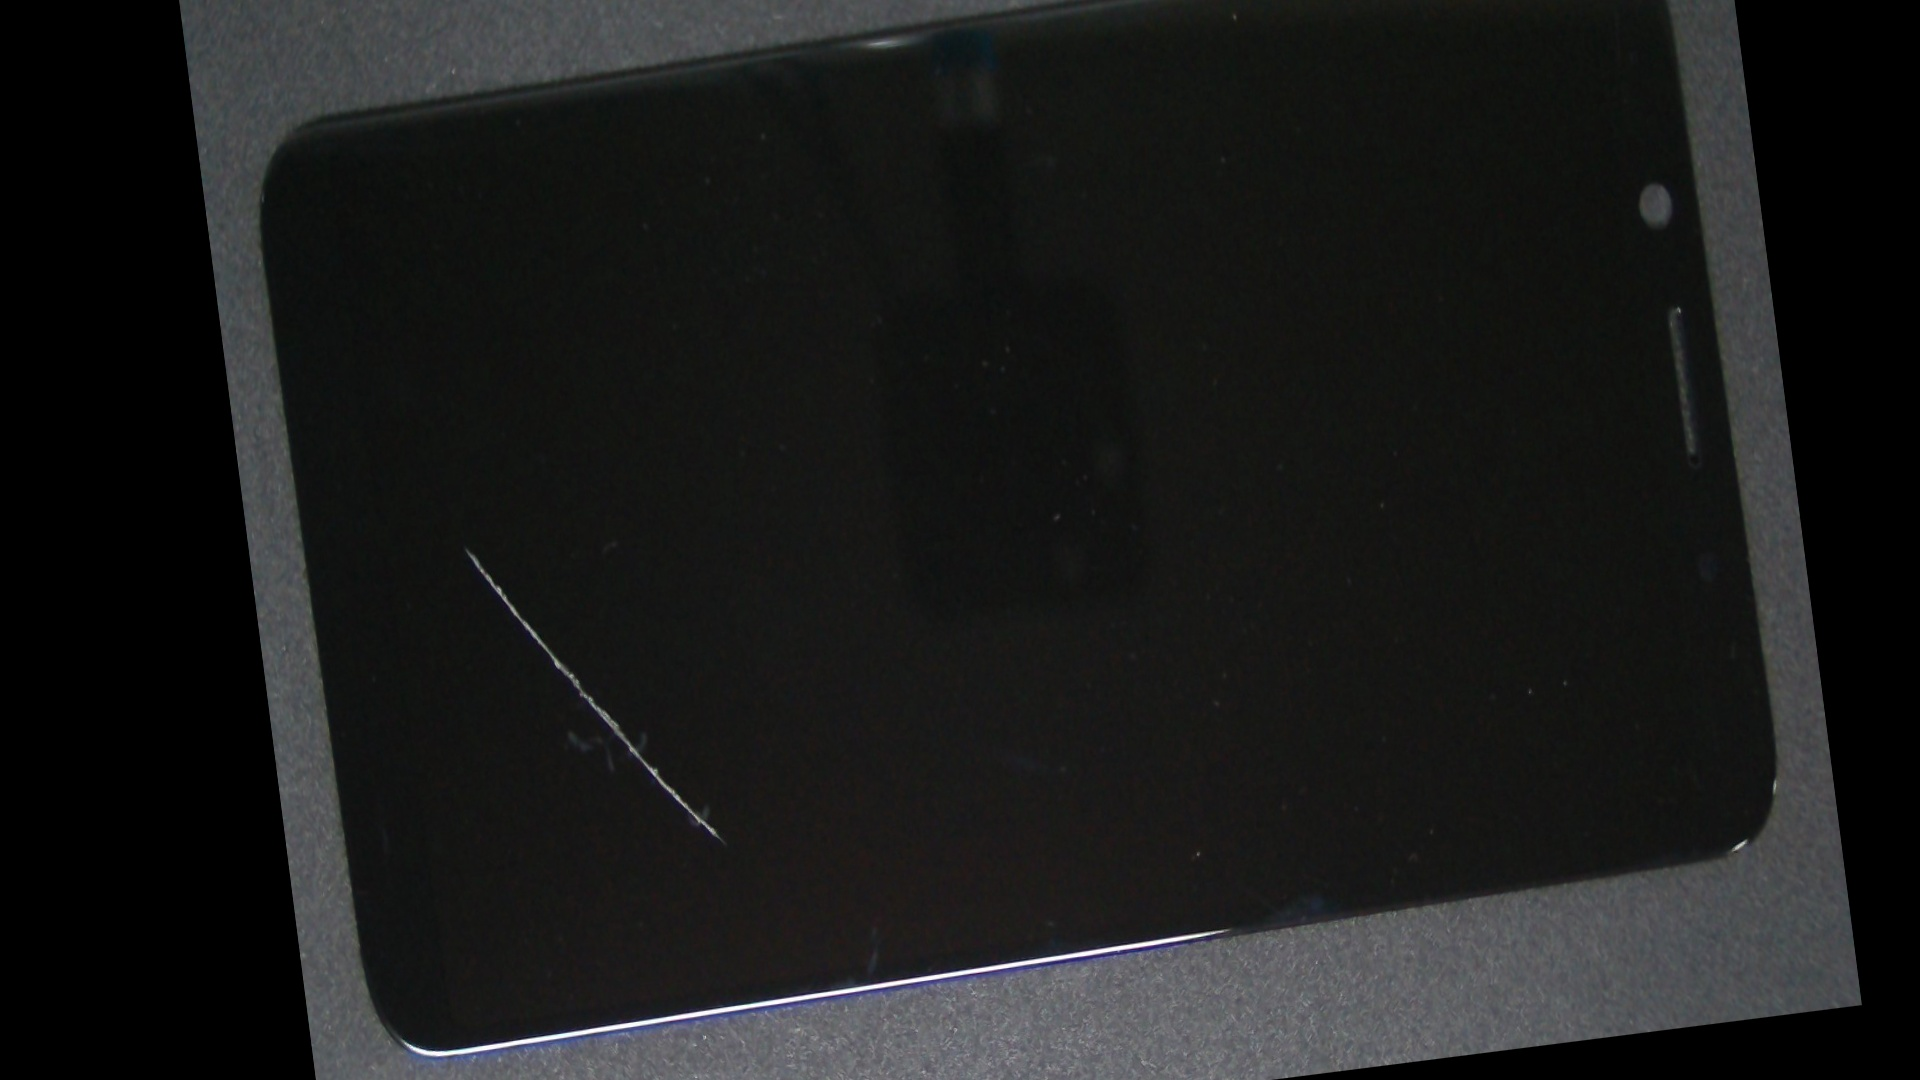oil: (322, 241, 608, 855)
